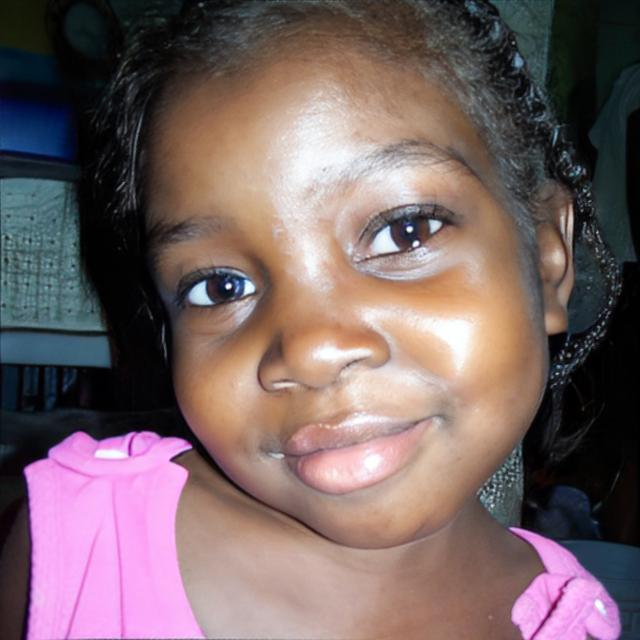content: (144, 0, 548, 548)
